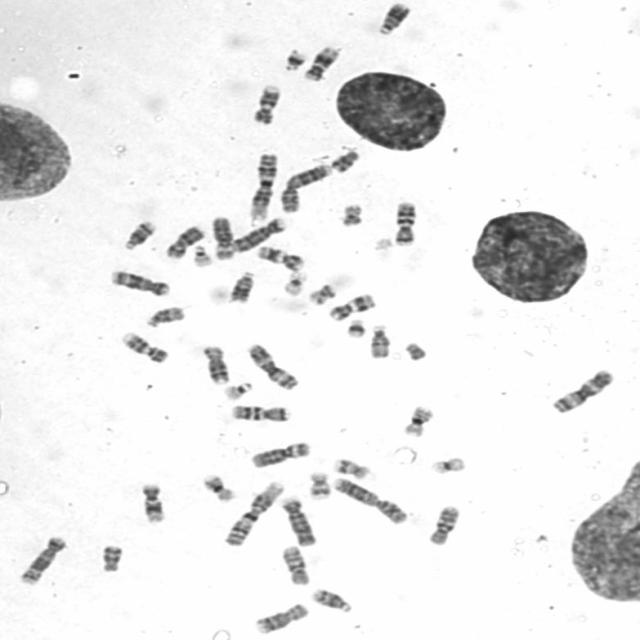A1: (220, 477, 287, 548), (245, 150, 280, 222)
A2: (328, 474, 409, 525), (277, 161, 334, 214)
A3: (548, 364, 617, 415), (243, 340, 300, 391)
B4: (227, 214, 289, 254), (276, 495, 318, 548)
B5: (16, 532, 69, 585), (108, 268, 172, 297)
C10: (424, 502, 464, 548), (277, 542, 312, 587)
C11: (326, 290, 378, 322), (255, 242, 308, 273)
C12: (299, 43, 342, 82), (138, 481, 168, 524)
C6: (247, 439, 312, 469), (209, 214, 236, 261)
C7: (227, 402, 292, 423), (392, 198, 420, 246)
C8: (251, 599, 311, 635), (199, 342, 231, 386)
C9: (119, 329, 170, 364), (249, 82, 281, 125)
D13: (374, 0, 414, 36), (226, 268, 256, 304)
D14: (308, 585, 355, 615), (118, 217, 157, 251)
D15: (142, 304, 188, 328), (367, 322, 392, 360)
E16: (399, 403, 436, 438), (199, 472, 237, 503)
E17: (330, 454, 373, 480), (305, 469, 332, 501)
E18: (97, 540, 126, 574), (328, 146, 362, 173)
F19: (426, 453, 467, 475), (280, 268, 309, 297)
F20: (305, 280, 337, 306), (337, 200, 365, 227)
G21: (280, 46, 308, 72), (342, 316, 368, 339)
G22: (220, 380, 253, 401), (189, 242, 214, 268)
X: (162, 222, 207, 259)
Y: (401, 339, 429, 362)
